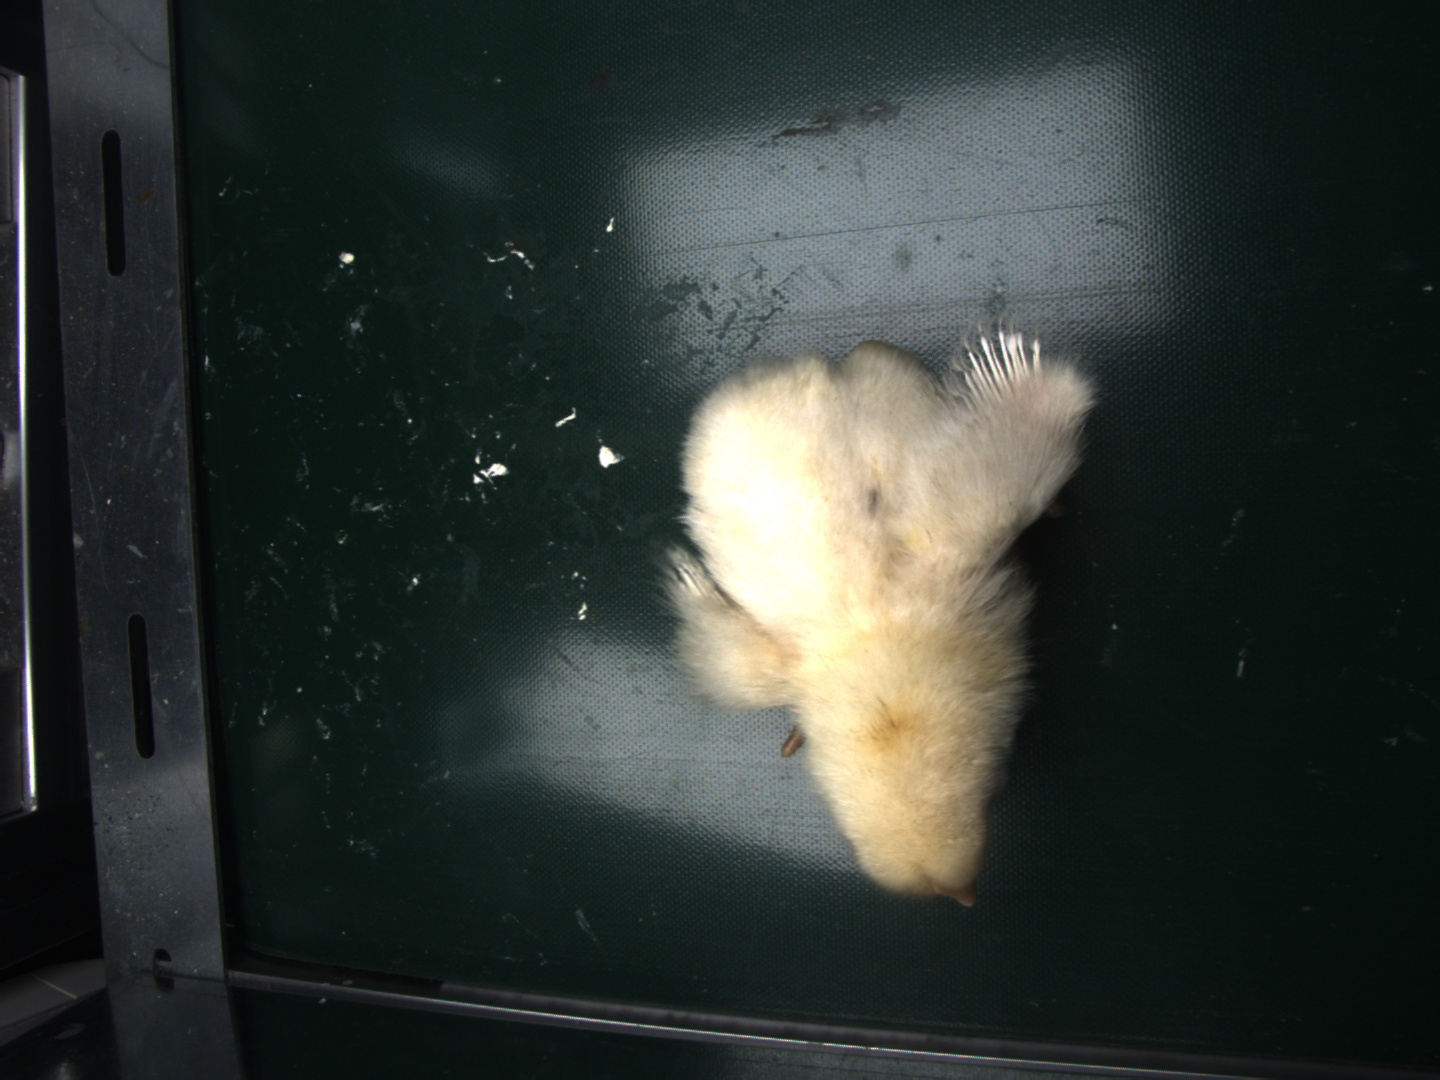male: (962, 327, 1042, 396)
